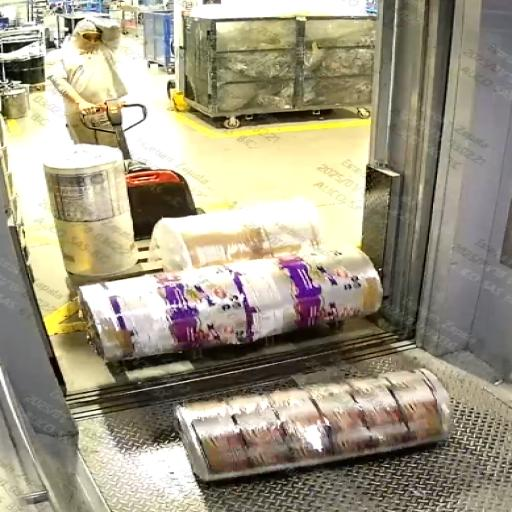rollos caidos: (39, 122, 457, 474)
